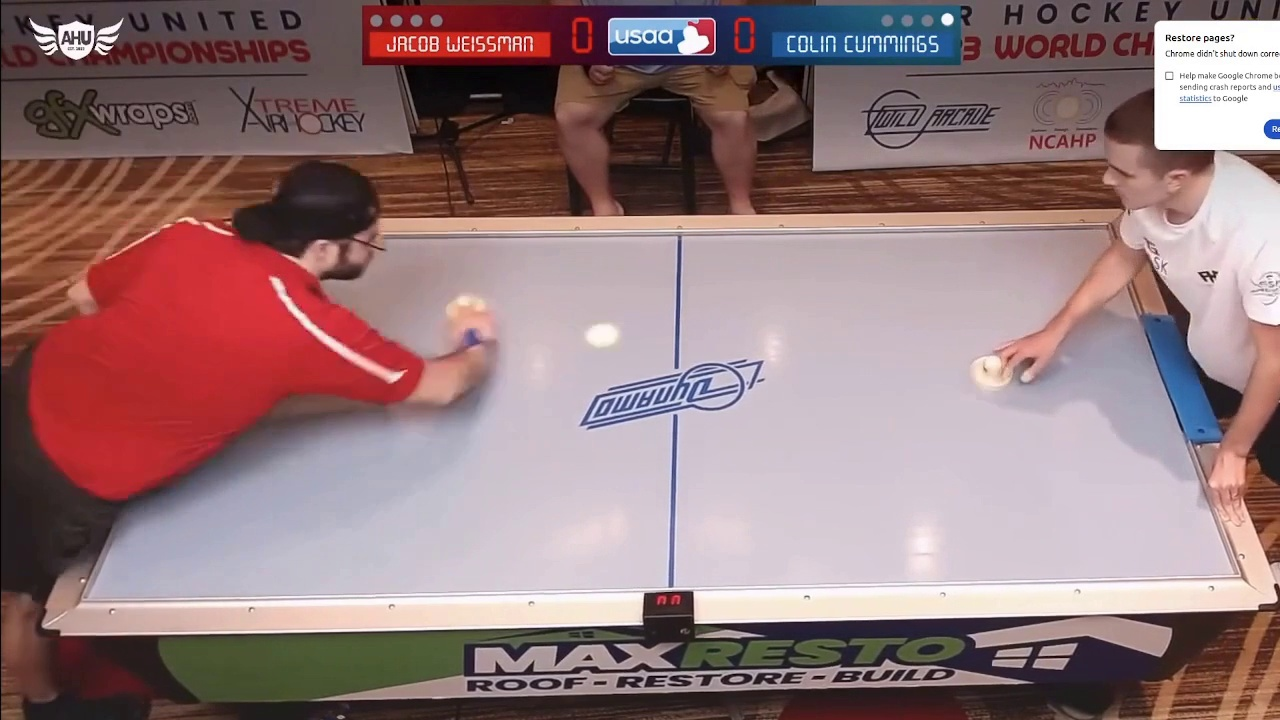player: (969, 350, 1018, 397), (443, 292, 491, 326)
puck: (579, 320, 623, 350)
table: (68, 217, 1278, 612)
